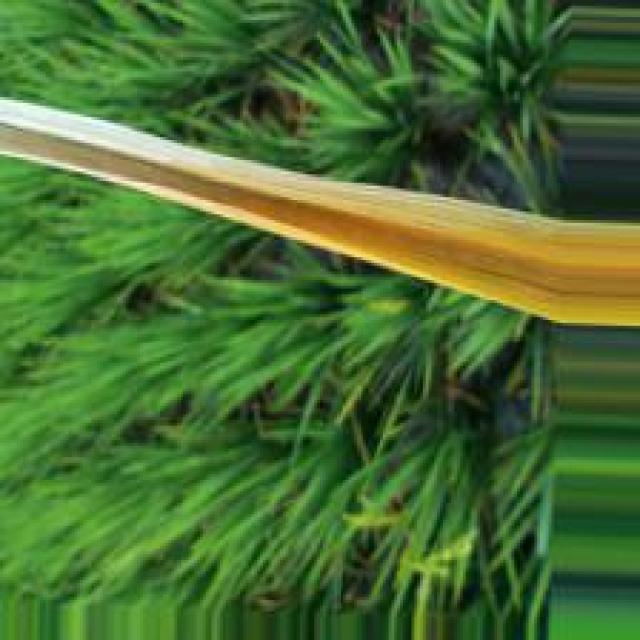Bacterial_Leaf_Blight: (133, 128, 560, 330)
